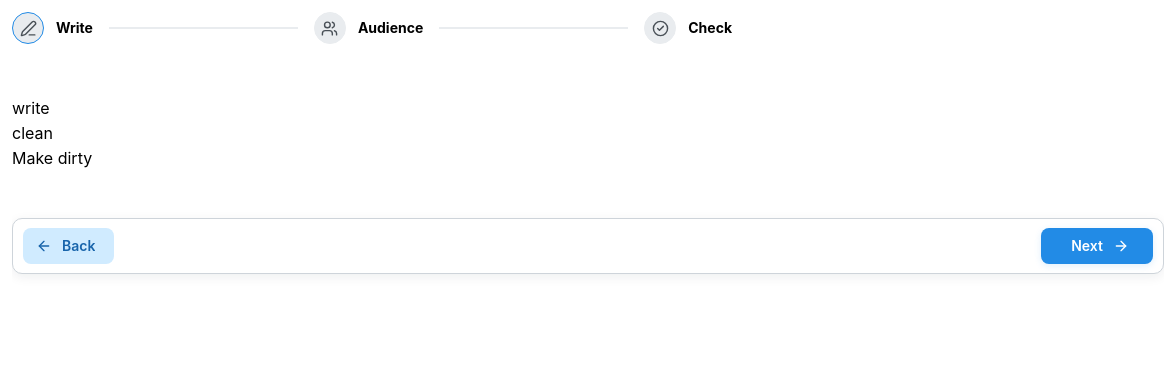
Test: PostComposerScreen component behavior › shows inline submit failures without notifications
What coordinates should you click on to do the following:
click the button "Next"
I would click on:
 (1097, 246)
Its box is [1041,228,1153,264].
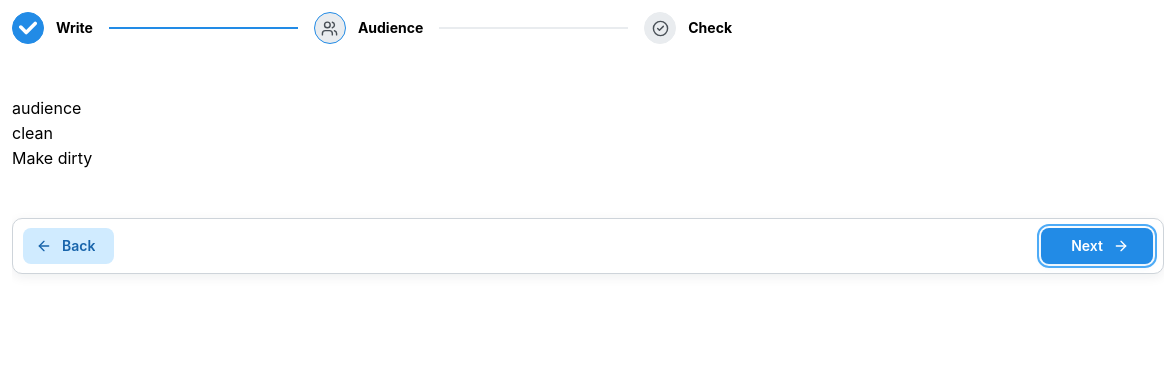
What coordinates should you click on to do the following:
click the button "Next"
I would click on:
 (1097, 246)
Its box is [1041,228,1153,264].
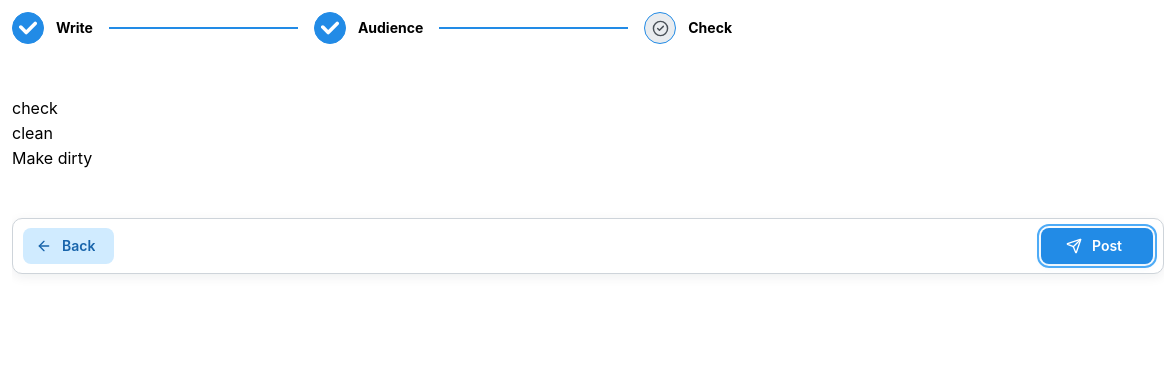
What coordinates should you click on to do the following:
click the button "Post"
I would click on:
 (1097, 246)
Its box is [1041,228,1153,264].
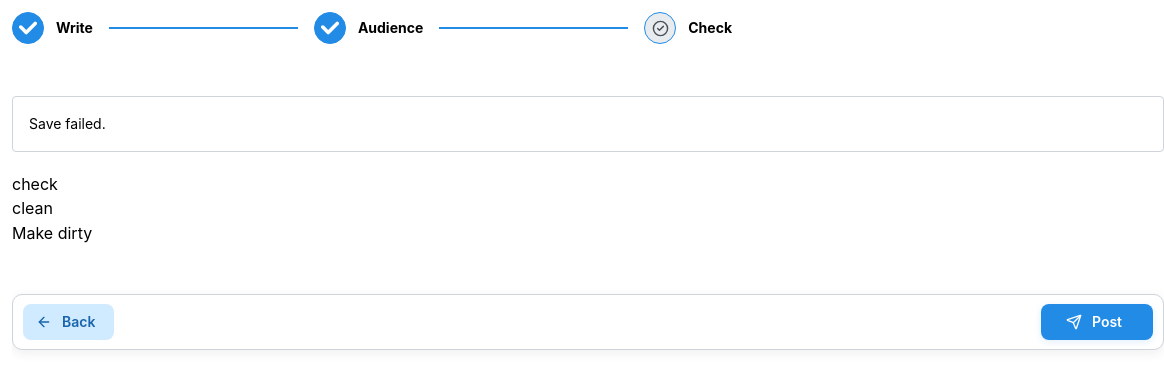
Check: the text "Save failed." is shown, box [29,115,106,132]
